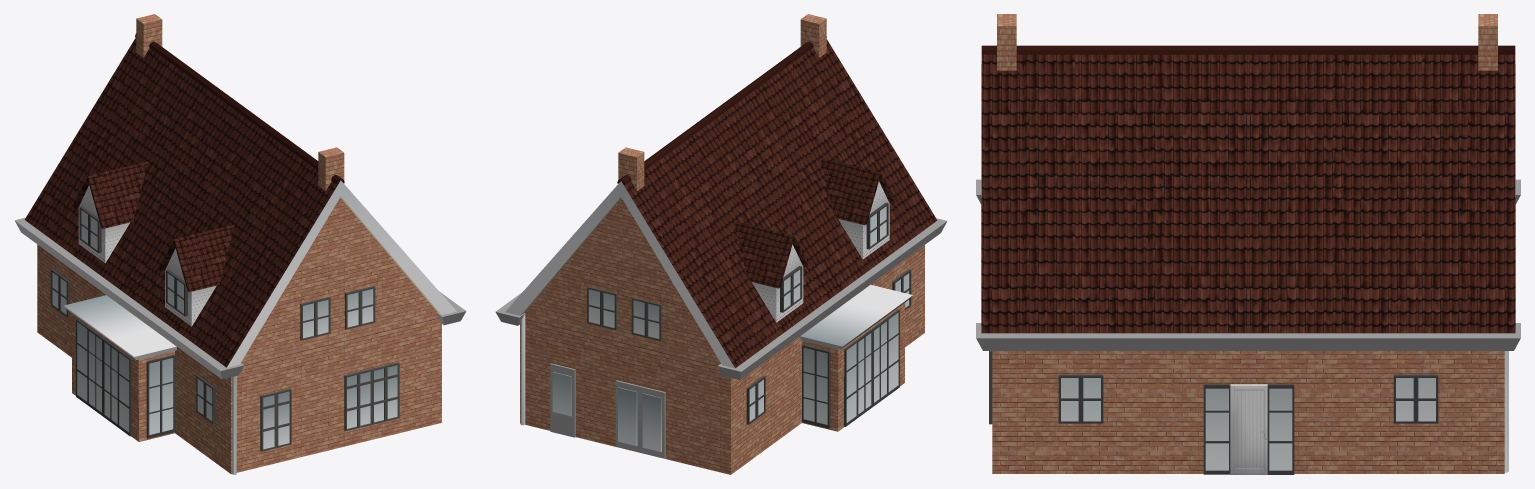
Rendered from Stjelp 14.fbx.
The picture shows the model from 3 angles, left to right: view 1: azimuth 30°, elevation 25°; view 2: azimuth 150°, elevation 25°; view 3: azimuth 270°, elevation 25°; orthographic projection. The views are drawn at different scales.
Visible parts, largest first — view 1: Stjelp_14; view 2: Stjelp_14; view 3: Stjelp_14.
Boxes of the visible parts, x1,y1,x2,y2 form: Stjelp_14: (14, 14, 466, 474); Stjelp_14: (495, 14, 947, 474); Stjelp_14: (976, 14, 1520, 474).
Size of the model in its own units: 9.66 by 9.92 by 12.68.
